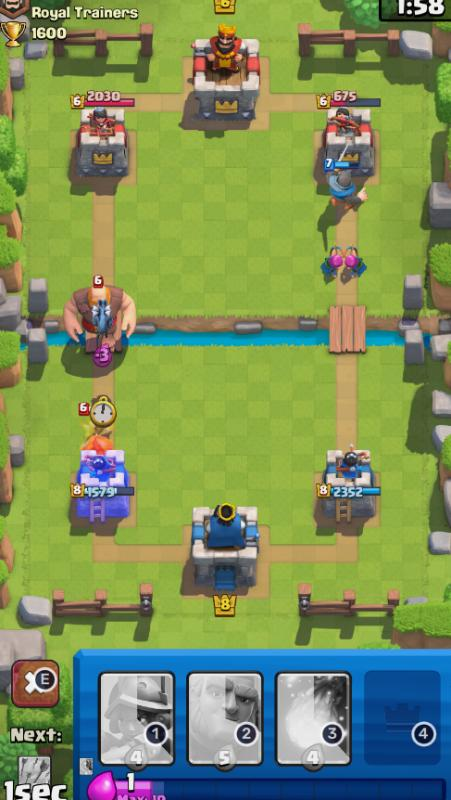archere: (339, 243, 372, 280), (314, 247, 347, 283)
chevalier: (311, 158, 370, 209)
gargouille: (86, 301, 122, 335)
geant: (68, 279, 140, 362)
